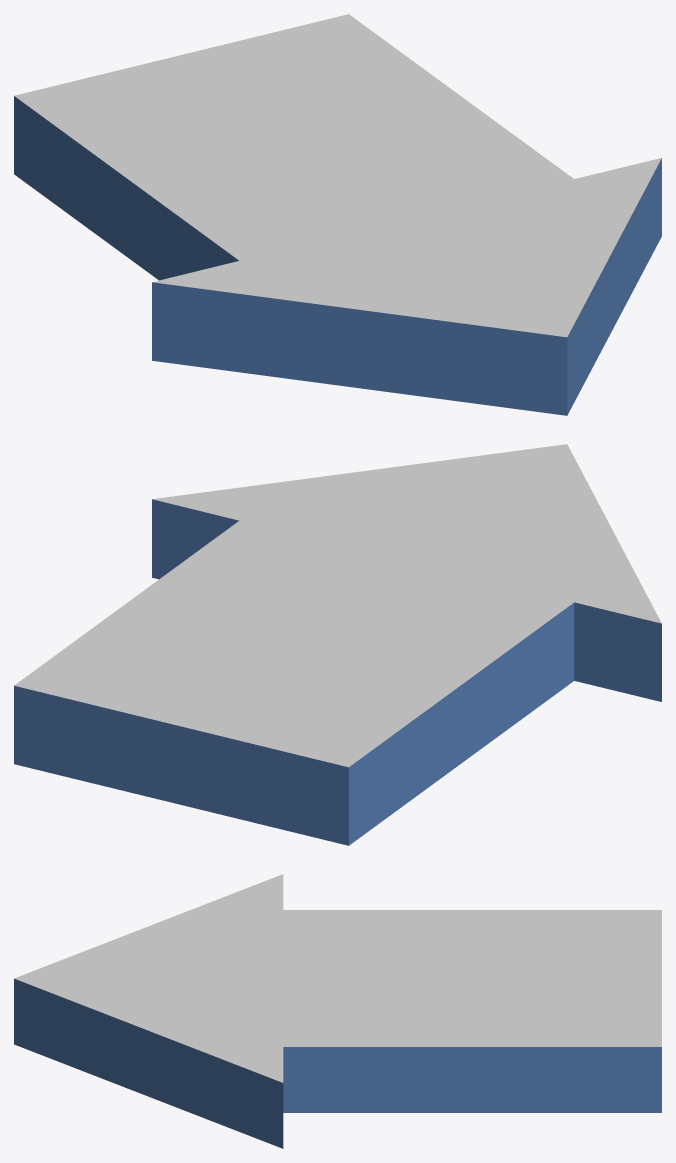
Rendered from arrow.fbx.
3 renders of one model, top to bottom at view 1: azimuth 30°, elevation 25°; view 2: azimuth 150°, elevation 25°; view 3: azimuth 270°, elevation 25°, orthographic. The views are drawn at different scales.
Visible parts, largest first — view 1: Cube; view 2: Cube; view 3: Cube.
Part boxes in pixels (bbox=[...]): Cube: bbox=[14, 14, 661, 415]; Cube: bbox=[14, 444, 661, 845]; Cube: bbox=[14, 874, 661, 1148].
Bounding box in the file's own units: 274 × 40.34 × 359.
